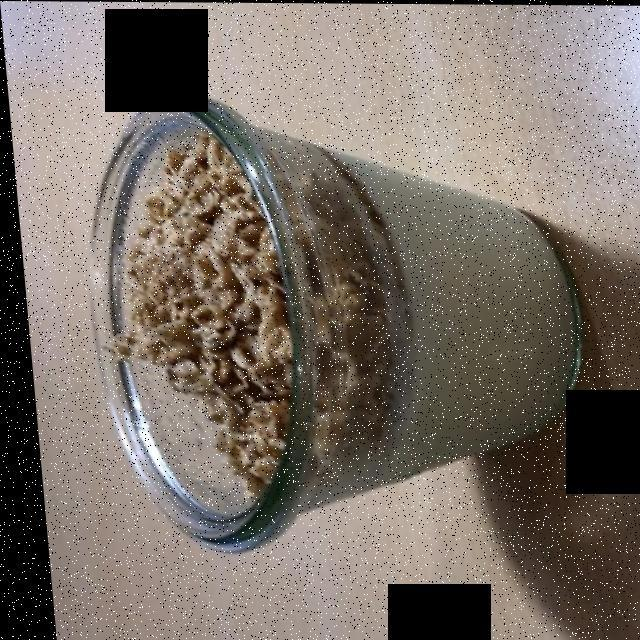oats: (91, 118, 413, 510)
yogurt: (330, 149, 572, 469)
